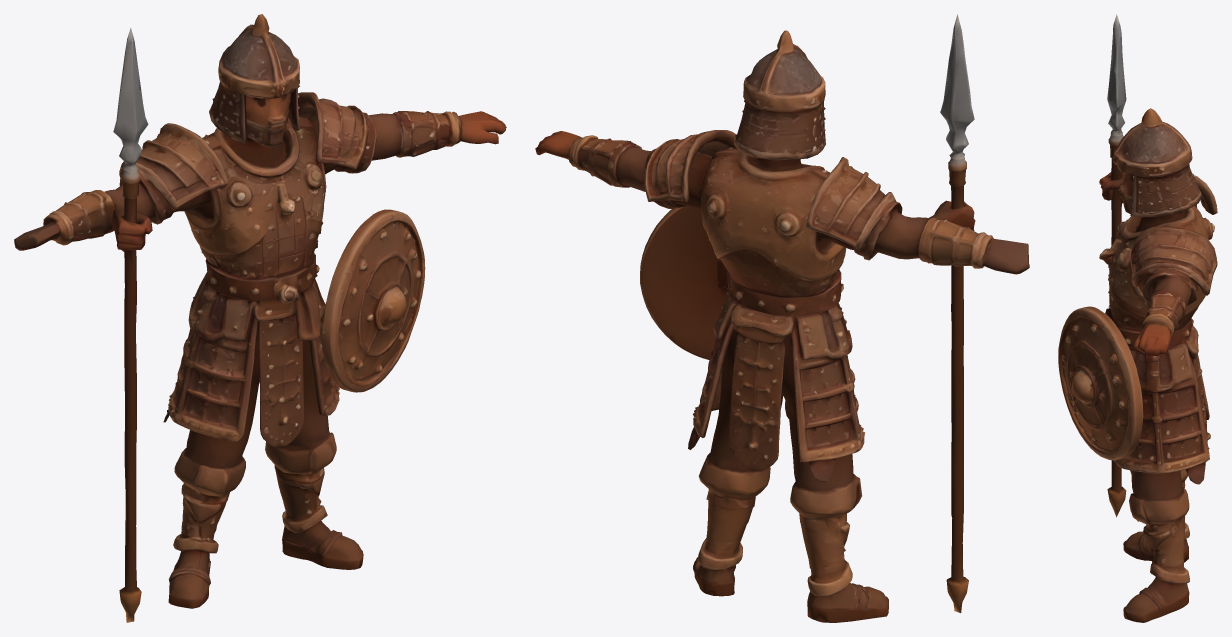
The model's file is soldier_spear.glb.
3 views of the same model, side by side, from view 1: azimuth 30°, elevation 25°; view 2: azimuth 150°, elevation 25°; view 3: azimuth 270°, elevation 25° (orthographic). The views are drawn at different scales.
Parts seen in each view (by area): view 1: tripo_node_bbb1ccc7-7841-42b2-9c22-cb20871eaff9; view 2: tripo_node_bbb1ccc7-7841-42b2-9c22-cb20871eaff9; view 3: tripo_node_bbb1ccc7-7841-42b2-9c22-cb20871eaff9.
Boxes of the visible parts, left/top/right/bottom form: tripo_node_bbb1ccc7-7841-42b2-9c22-cb20871eaff9: left=14, top=14, right=506, bottom=622; tripo_node_bbb1ccc7-7841-42b2-9c22-cb20871eaff9: left=535, top=14, right=1029, bottom=622; tripo_node_bbb1ccc7-7841-42b2-9c22-cb20871eaff9: left=1058, top=14, right=1217, bottom=622.
Size of the model in its own units: 0.8461 by 1 by 0.2841.
1 material, 1 textured.
